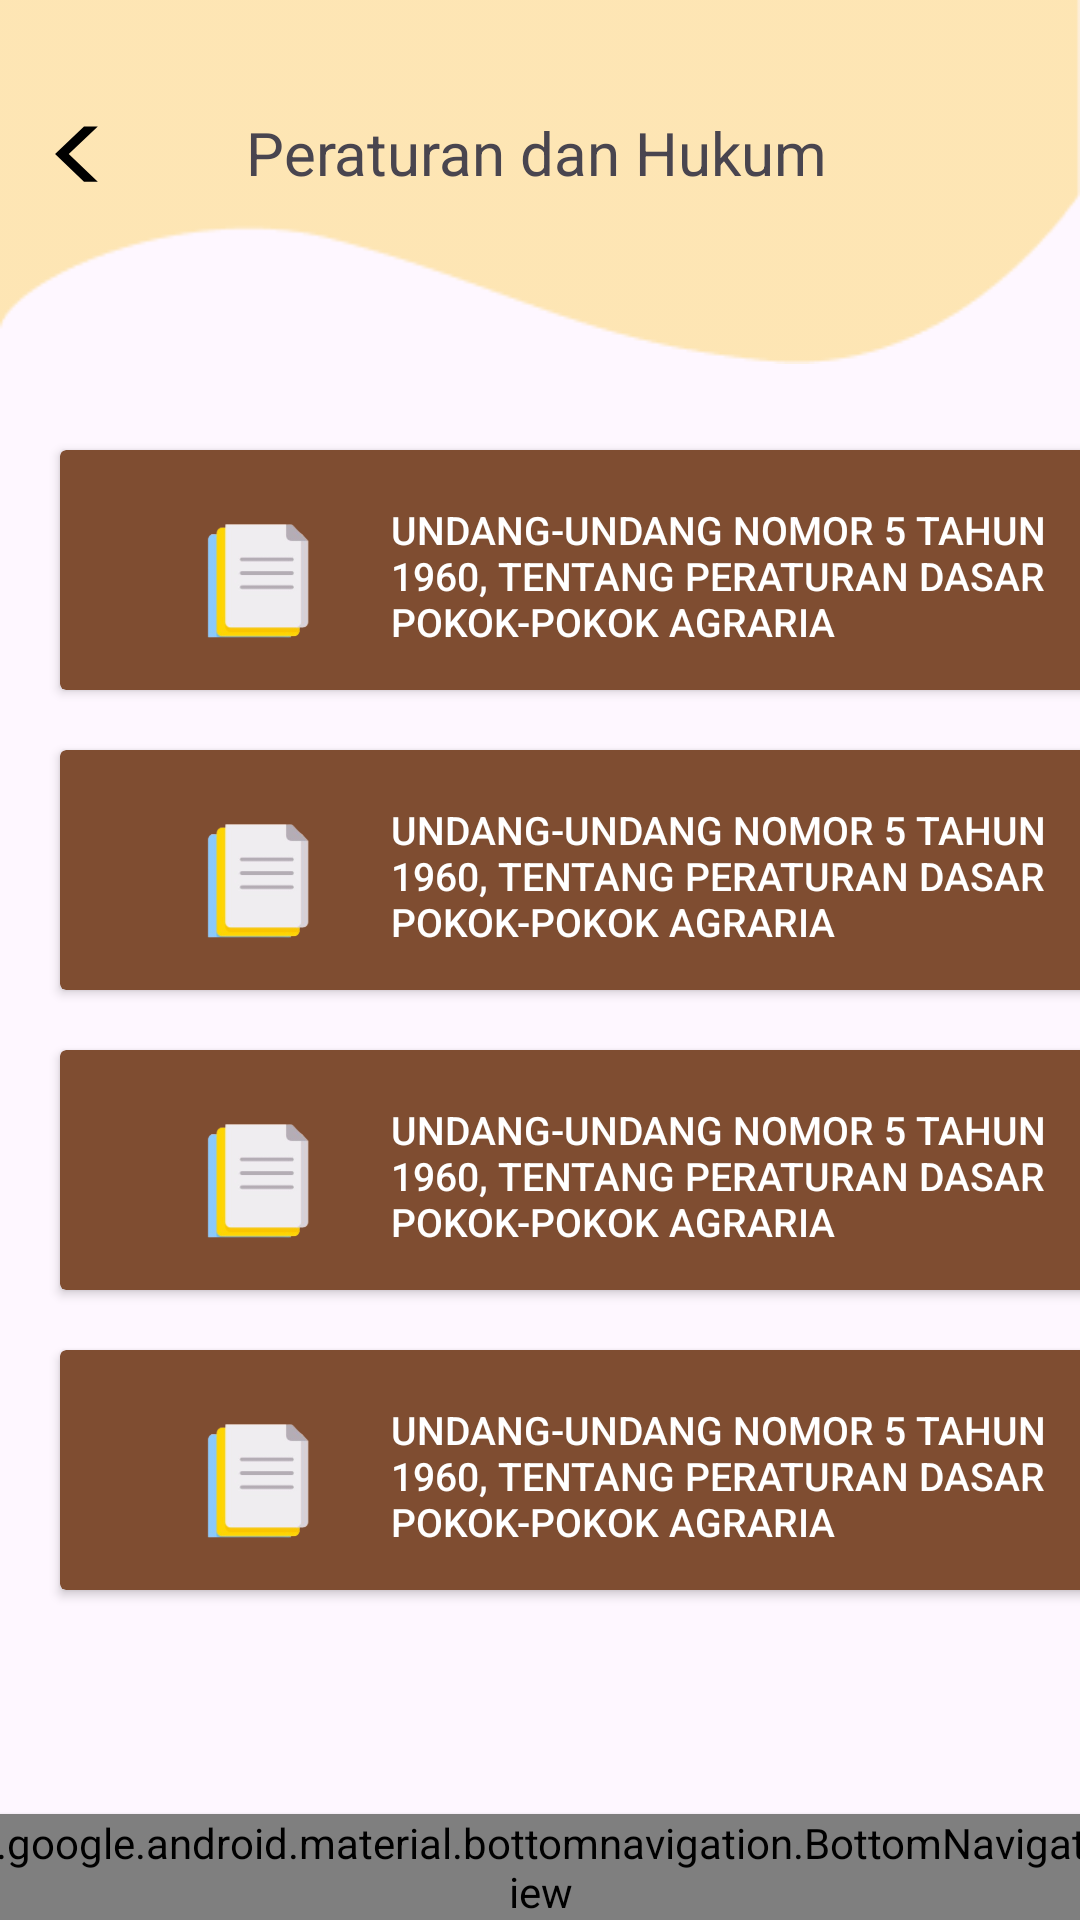

Icon click points for this 1080w x 1920h phone screenshot, format point (x, y):
back: point (76, 154)
